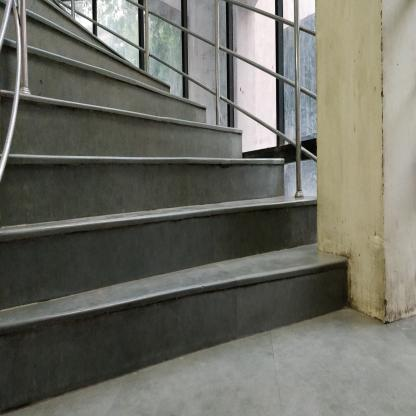stairs: (34, 140, 244, 412)
